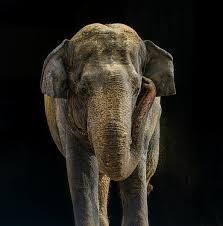elephant: (40, 23, 175, 225)
